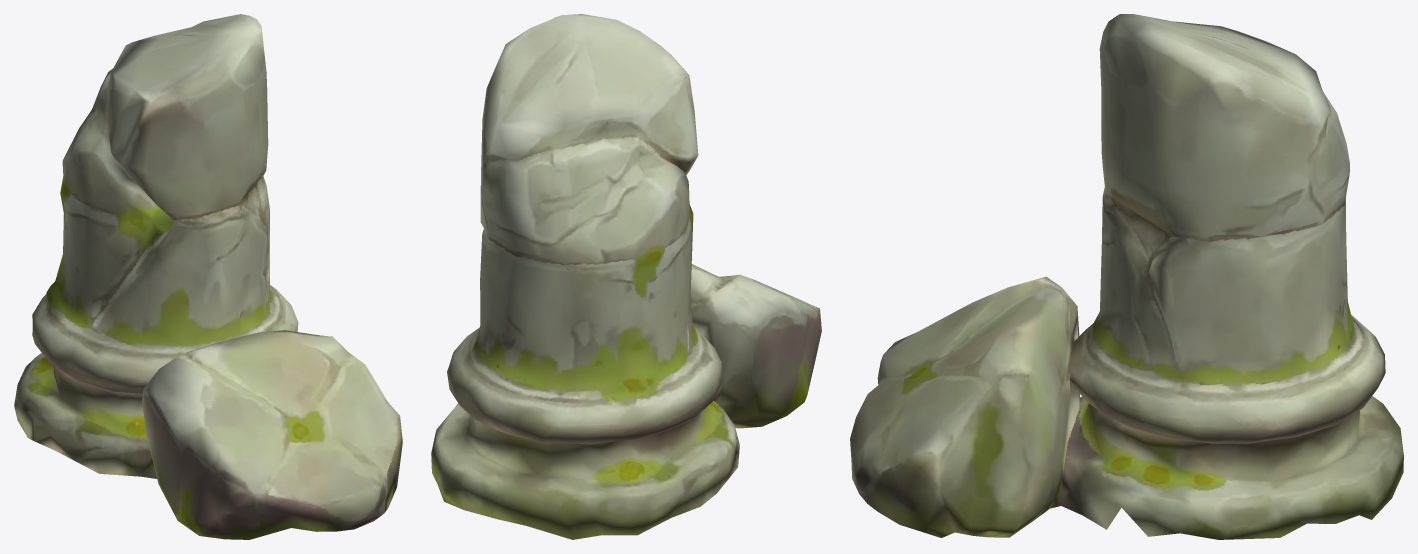
The model's file is ruin_pillar.glb.
3 renders of one model, left to right at view 1: azimuth 30°, elevation 25°; view 2: azimuth 150°, elevation 25°; view 3: azimuth 270°, elevation 25°, orthographic. The views are drawn at different scales.
Visible parts, largest first — view 1: geometry_0; view 2: geometry_0; view 3: geometry_0.
Boxes of the visible parts, x1,y1,x2,y2 form: geometry_0: (14,14,402,539); geometry_0: (431,14,821,539); geometry_0: (850,14,1403,539).
Bounding box in the file's own units: 1.97 × 3 × 3.15.
1 material, 1 textured.
